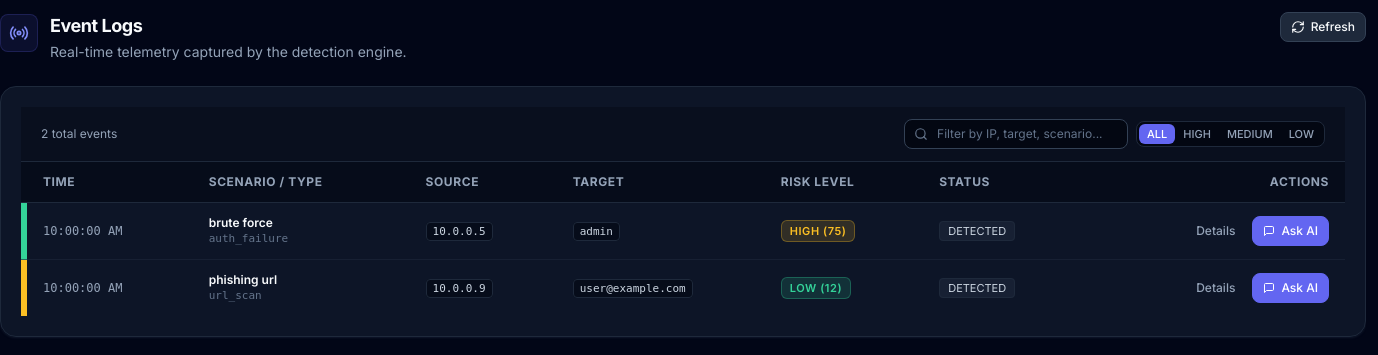
Test: RecentEventsTable (Phase 11) › narrows rows via the search filter
This screenshot has width=1378, height=355.
Type "phishing" into the field named "filter events".
click(1016, 134); type("phishing")  # box [904,119,1128,149]
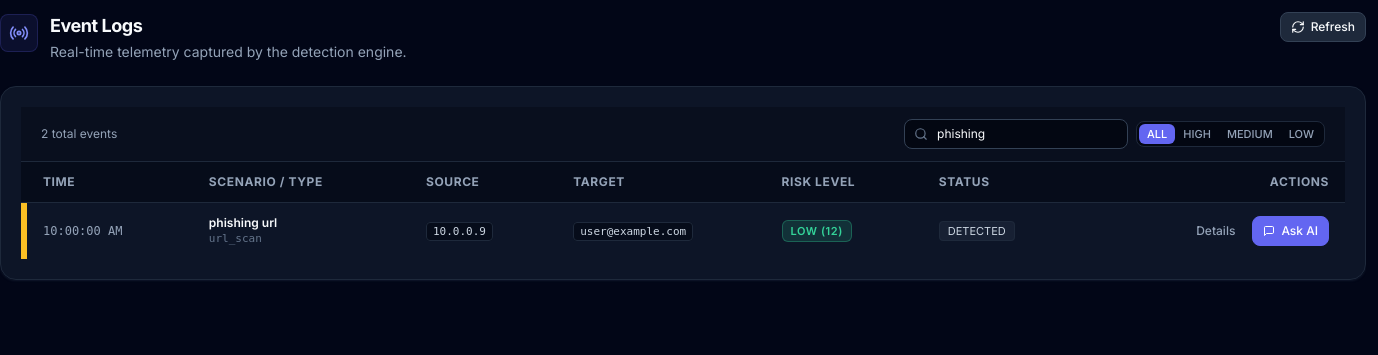
Check: the text "phishing url" is shown, box [209,215,277,230]
Check: the text "brute force" is gone
